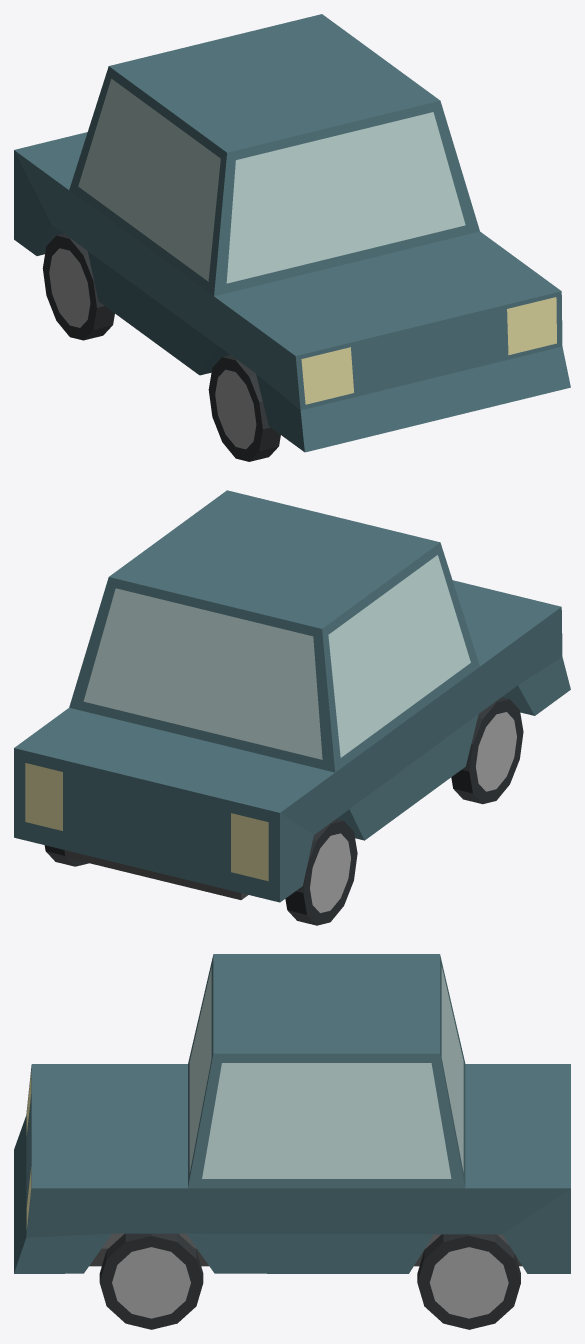
The model's file is Carro03.FBX.
3 renders of one model, top to bottom at view 1: azimuth 30°, elevation 25°; view 2: azimuth 150°, elevation 25°; view 3: azimuth 270°, elevation 25°, orthographic. The views are drawn at different scales.
Visible parts, largest first — view 1: Carro003; view 2: Carro003; view 3: Carro003.
Boxes of the visible parts, x1,y1,x2,y2 form: Carro003: [14, 14, 570, 461]; Carro003: [14, 490, 570, 925]; Carro003: [14, 954, 570, 1329].
Bounding box in the file's own units: 59.27 × 58.85 × 112.
